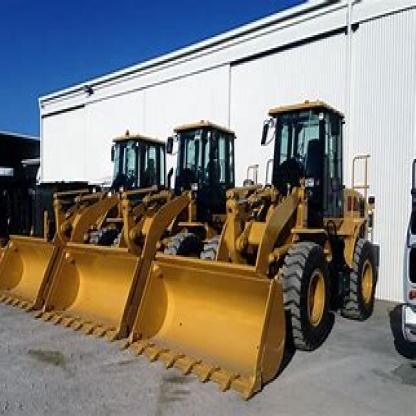bull_dozer/loader/grader: (136, 104, 399, 398), (100, 120, 236, 405), (0, 120, 154, 348)
